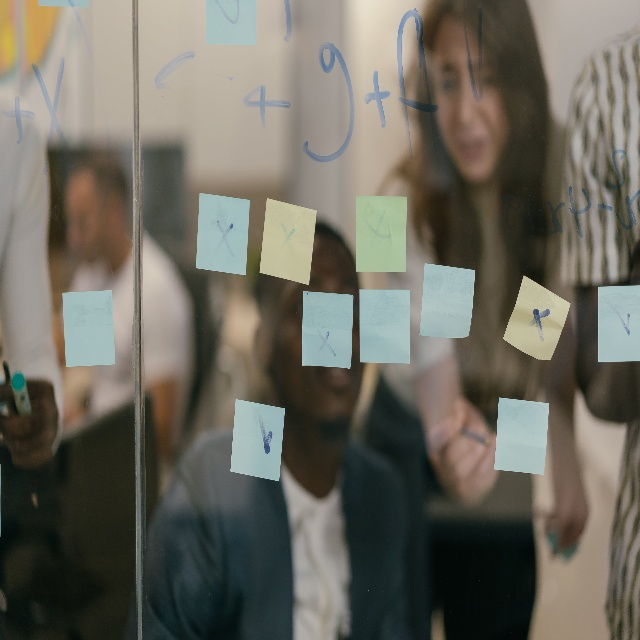Sin_guantes: (426, 398, 501, 496), (0, 385, 58, 465)
